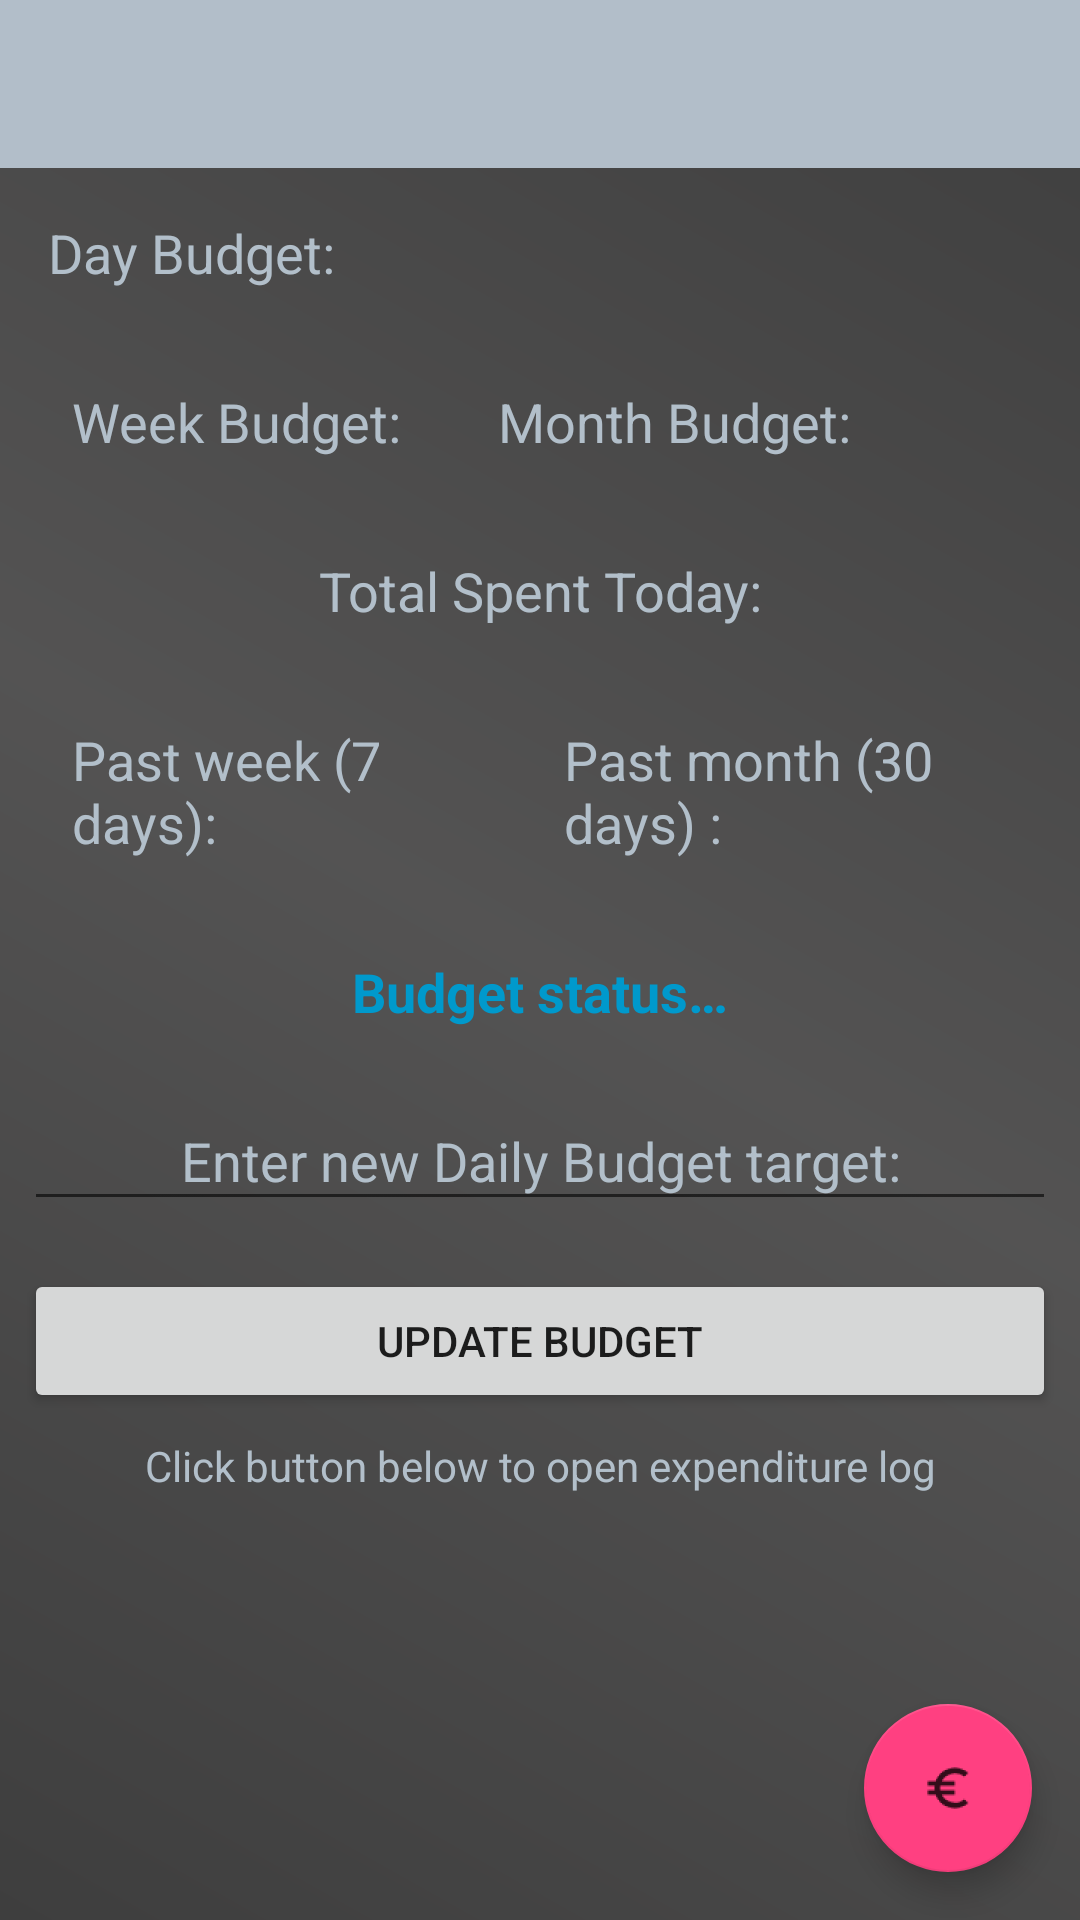

Icons on this 1080px×1920px Android screen, each with its box as (x1, y1, x2, y2):
spending: (864, 1704, 1032, 1872)
